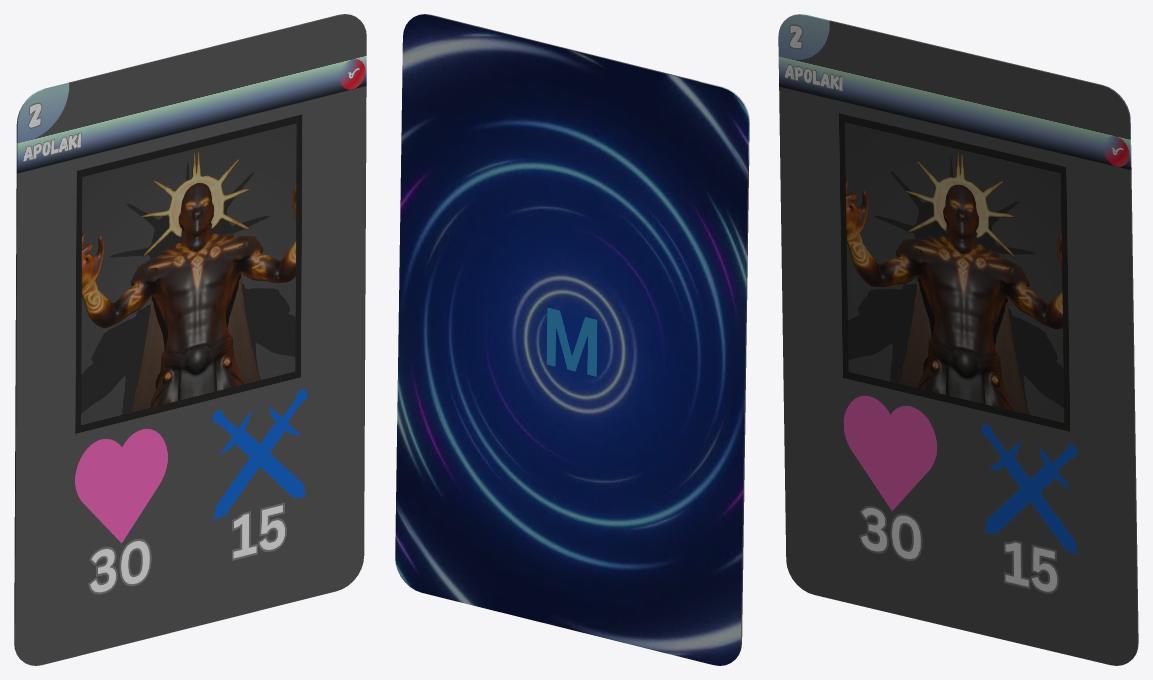
File: Apolaki.glb
3 renders of one model, left to right at view 1: azimuth 30°, elevation 25°; view 2: azimuth 150°, elevation 25°; view 3: azimuth 330°, elevation 25°, orthographic.
Parts seen in each view (by area): view 1: Card; view 2: Card; view 3: Card.
Boxes of the visible parts, x1=… form: Card: x1=14, y1=14, x2=366, y2=665; Card: x1=395, y1=14, x2=749, y2=665; Card: x1=778, y1=14, x2=1138, y2=665.
Size of the model in its own units: 0.0564 by 0.0891 by 0.00197.
Materials: 2 (2 with a texture image).
